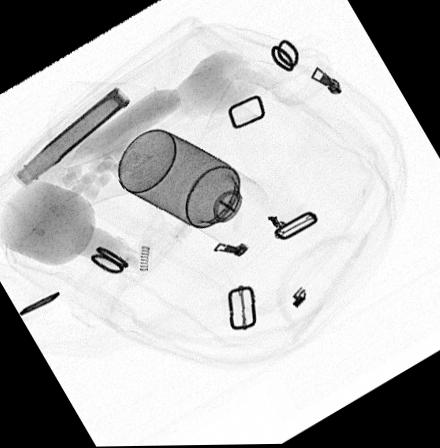Sprayer: (116, 127, 269, 248)
